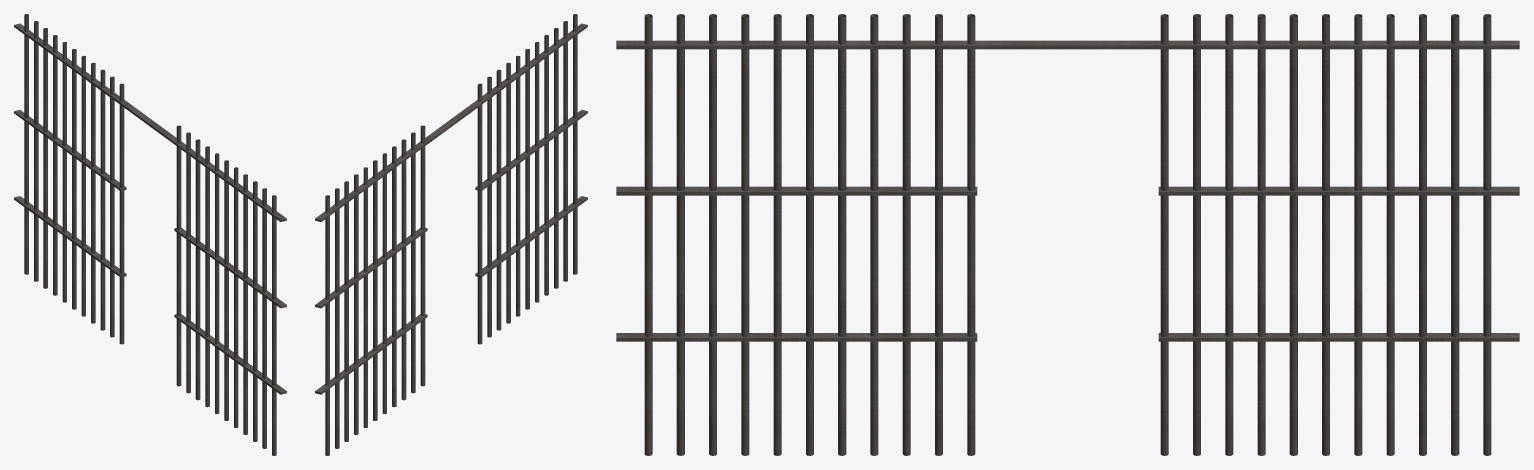
File: crypt_door_01.FBX
The picture shows the model from 3 angles, left to right: view 1: azimuth 30°, elevation 25°; view 2: azimuth 150°, elevation 25°; view 3: azimuth 270°, elevation 25°; orthographic projection. The views are drawn at different scales.
Parts seen in each view (by area): view 1: metalDoorJam; view 2: metalDoorJam; view 3: metalDoorJam.
Part boxes in pixels (x1,y1,x2,y2): metalDoorJam: (14, 14, 286, 455); metalDoorJam: (315, 14, 587, 455); metalDoorJam: (616, 14, 1519, 455).
Bounding box in the file's own units: 6 × 448 × 240.
